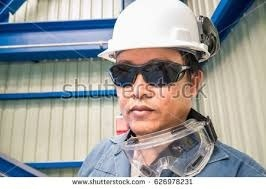helmet: (97, 1, 221, 65)
person with partial safety: (74, 1, 263, 177)
